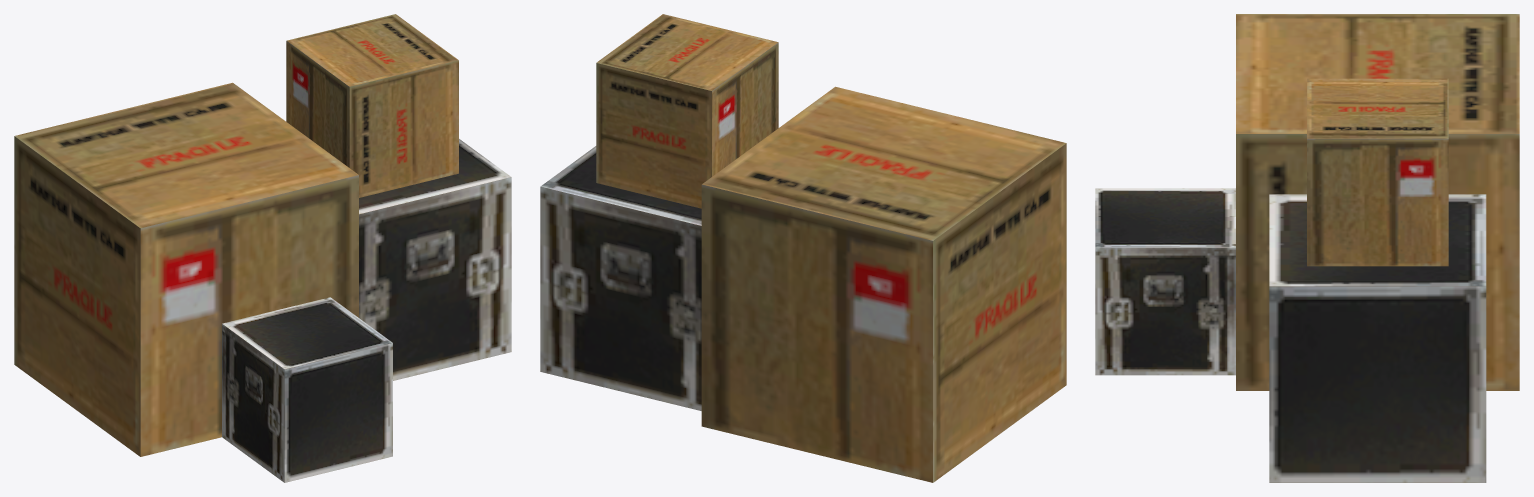
Rendered from Environment - Prop - Shipping Crate - PMCrates03.glb.
3 renders of one model, left to right at view 1: azimuth 30°, elevation 25°; view 2: azimuth 150°, elevation 25°; view 3: azimuth 270°, elevation 25°, orthographic. The views are drawn at different scales.
Visible parts, largest first — view 1: PMCRATES03; view 2: PMCRATES03; view 3: PMCRATES03.
Boxes of the visible parts, x1,y1,x2,y2 form: PMCRATES03: [14, 14, 511, 482]; PMCRATES03: [540, 14, 1066, 482]; PMCRATES03: [1095, 14, 1519, 482].
Bounding box in the file's own units: 12.36 × 8.83 × 10.47.
Materials: 1 (1 with a texture image).
